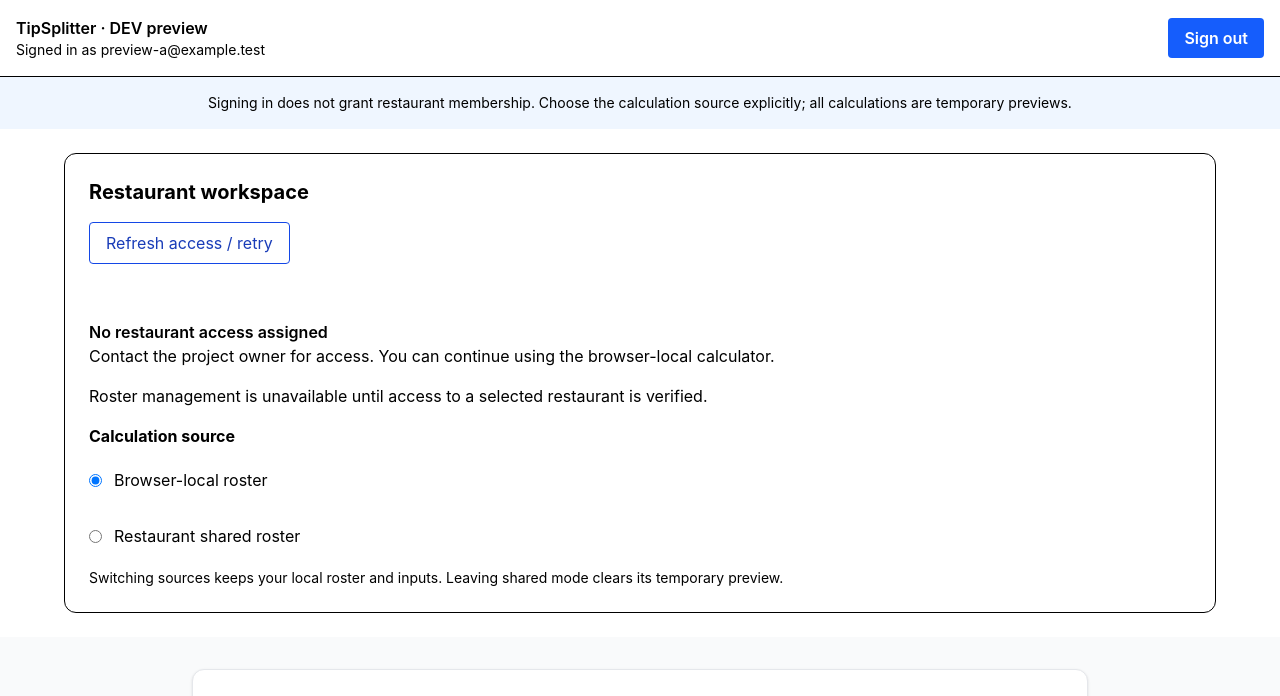
handles thrown logout errors
This screenshot has width=1280, height=696.
Click the button "Sign out" at [1216, 38], box [1168, 18, 1264, 58]
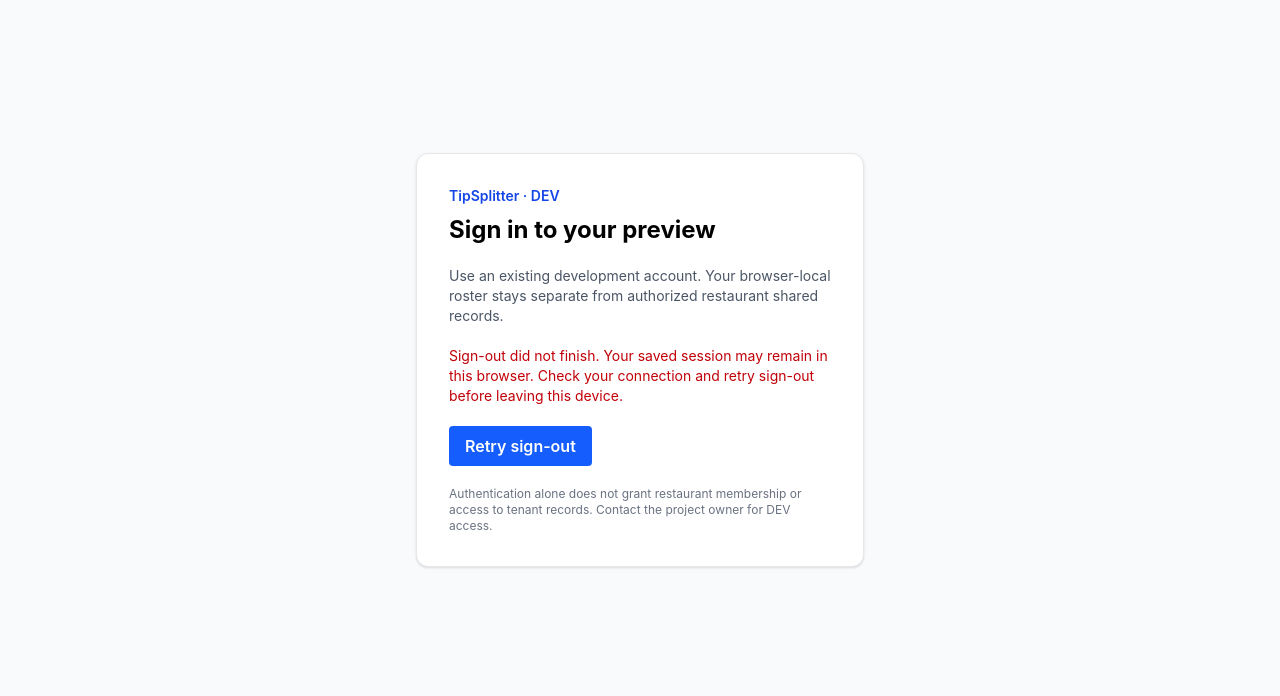
Expected: the message shows "Sign-out did not finish", [449, 347, 828, 404]
